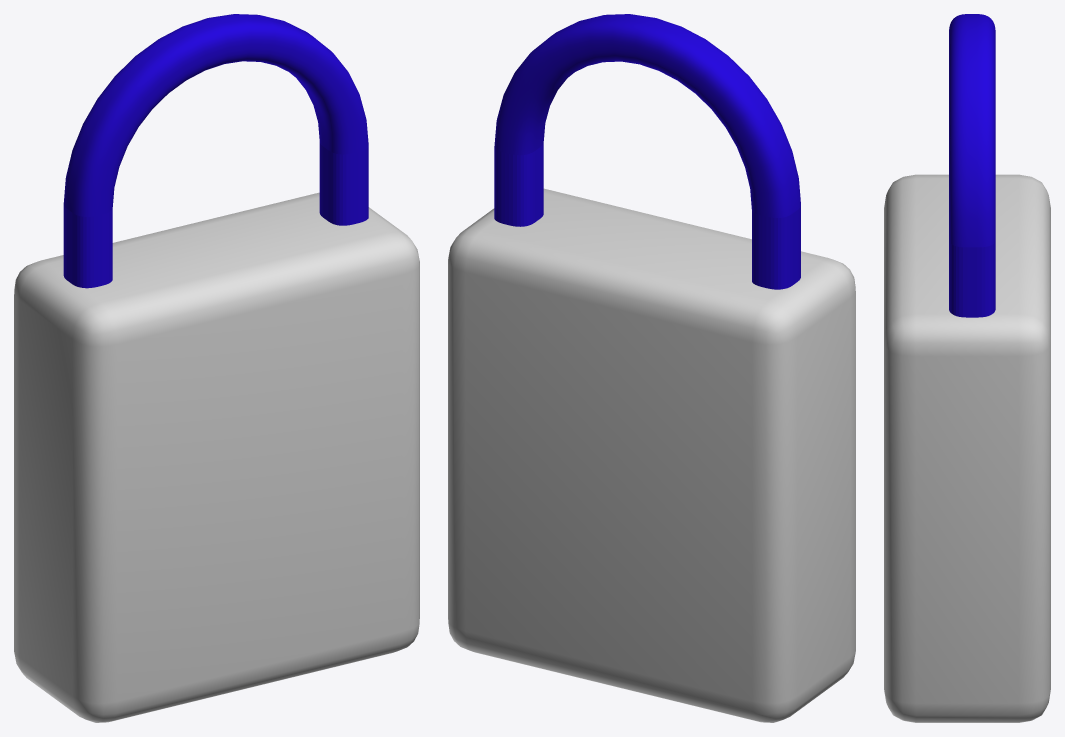
The model's file is lock.fbx.
3 renders of one model, left to right at view 1: azimuth 30°, elevation 25°; view 2: azimuth 150°, elevation 25°; view 3: azimuth 270°, elevation 25°, orthographic. The views are drawn at different scales.
Parts seen in each view (by area): view 1: Tube001; view 2: Tube001; view 3: Tube001.
Part boxes in pixels (x1,y1,x2,y2): Tube001: (14, 14, 419, 722); Tube001: (448, 14, 855, 722); Tube001: (884, 14, 1050, 722).
Bounding box in the file's own units: 12 × 21.5 × 5.21.
